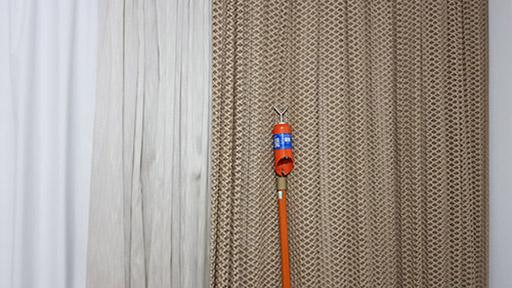Detector_Tensao_Contato: (270, 105, 293, 179)
Vara_Manobra: (273, 176, 293, 288)
